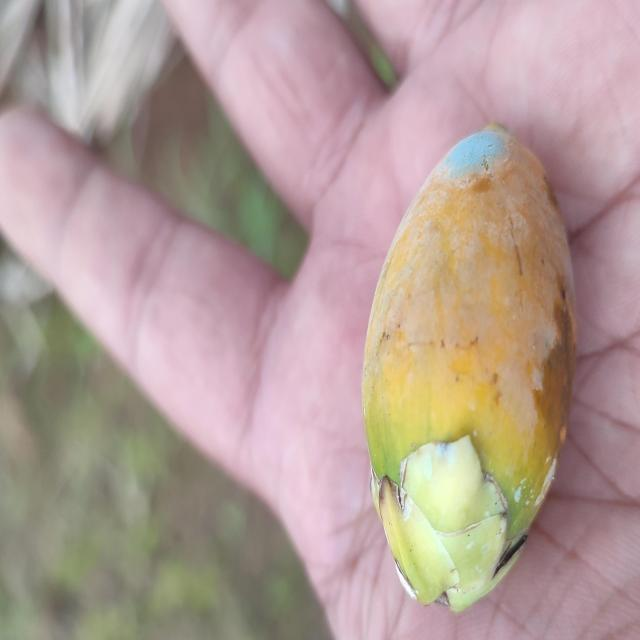good: (360, 125, 577, 615)
